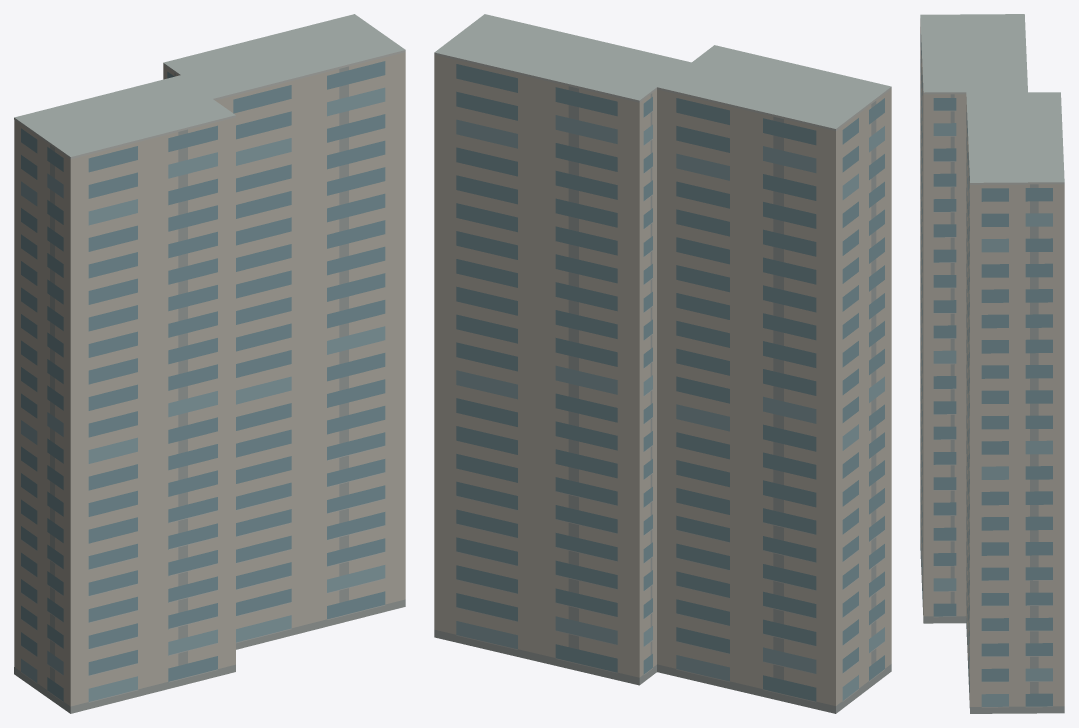
The model's file is residential-6d1cb20a-75a0-41bf-83fe-798dfc159cb9.glb.
The picture shows the model from 3 angles, left to right: view 1: azimuth 30°, elevation 25°; view 2: azimuth 150°, elevation 25°; view 3: azimuth 270°, elevation 25°; orthographic projection. The views are drawn at different scales.
Visible parts, largest first — view 1: residential-6d1cb20a-75a0-41bf-83fe-798dfc159cb9.tmp; view 2: residential-6d1cb20a-75a0-41bf-83fe-798dfc159cb9.tmp; view 3: residential-6d1cb20a-75a0-41bf-83fe-798dfc159cb9.tmp.
Part boxes in pixels (x1=…): residential-6d1cb20a-75a0-41bf-83fe-798dfc159cb9.tmp: x1=14, y1=14, x2=405, y2=713; residential-6d1cb20a-75a0-41bf-83fe-798dfc159cb9.tmp: x1=434, y1=14, x2=891, y2=713; residential-6d1cb20a-75a0-41bf-83fe-798dfc159cb9.tmp: x1=920, y1=14, x2=1064, y2=713.
Bounding box in the file's own units: 44.35 × 65 × 16.02.
